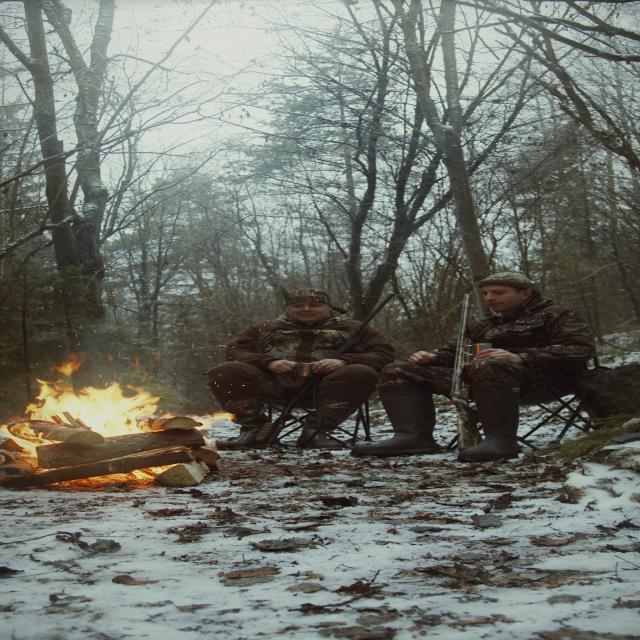Fire: (1, 363, 232, 481)
